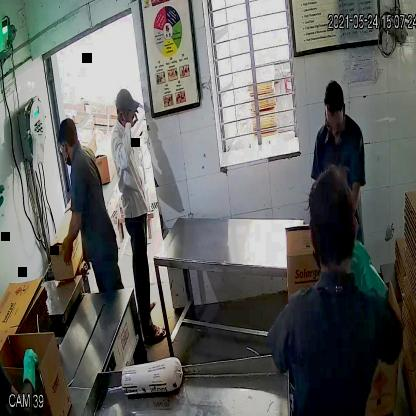goggles: (324, 116, 345, 134)
